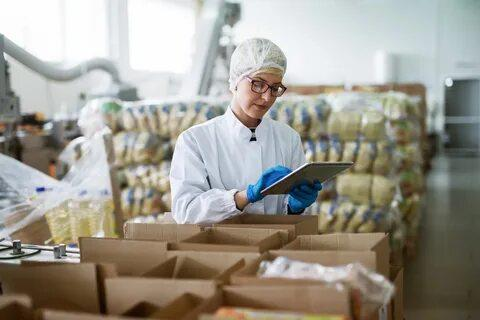hairnet: (220, 35, 299, 94)
